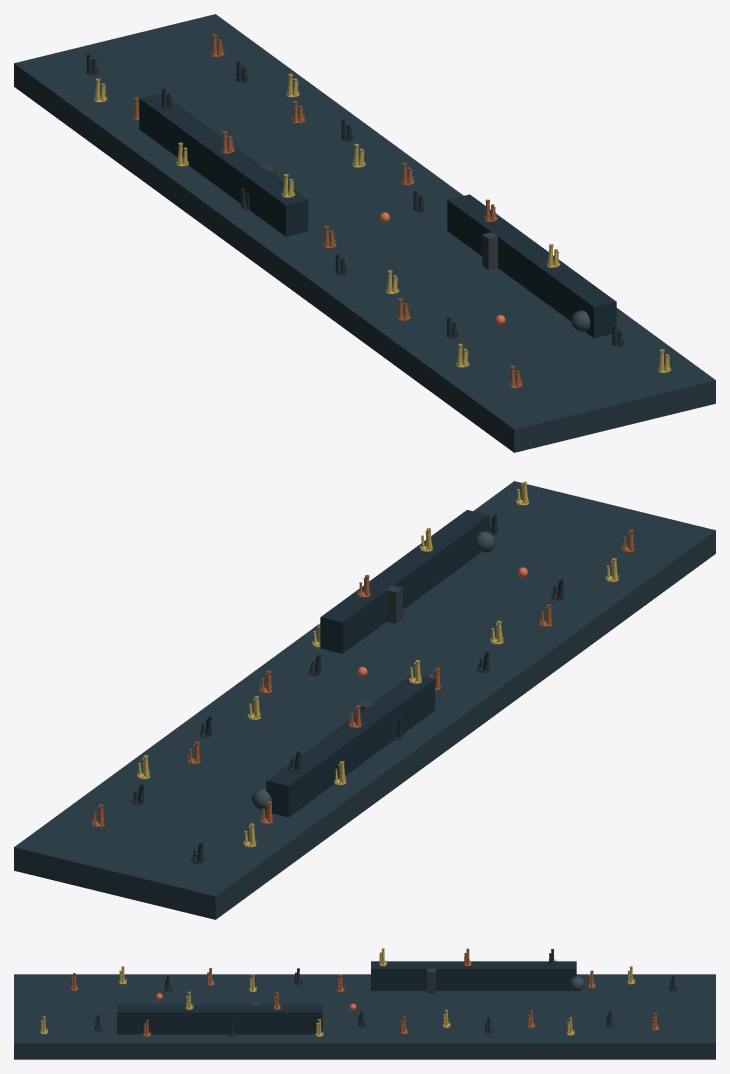
Rendered from blacksmoker-run.visual.glb.
The picture shows the model from 3 angles, top to bottom: view 1: azimuth 30°, elevation 25°; view 2: azimuth 150°, elevation 25°; view 3: azimuth 270°, elevation 25°; orthographic projection. The views are drawn at different scales.
Parts seen in each view (by area): view 1: smoker-seabed, smoker-west-wall, smoker-east-wall; view 2: smoker-seabed, smoker-west-wall, smoker-east-wall; view 3: smoker-seabed, smoker-east-wall, smoker-west-wall, smoker-west-chimney.
Part boxes in pixels (box(x1,y1,x2,y2)): smoker-seabed: box(14, 14, 715, 452); smoker-west-wall: box(139, 92, 308, 236); smoker-east-wall: box(447, 194, 616, 338); smoker-seabed: box(14, 481, 715, 919); smoker-west-wall: box(266, 673, 435, 817); smoker-east-wall: box(320, 510, 489, 653); smoker-seabed: box(14, 974, 715, 1059); smoker-east-wall: box(117, 1004, 322, 1034); smoker-west-wall: box(371, 961, 576, 990); smoker-west-chimney: box(427, 968, 435, 993).
Size of the model in its own units: 54 by 19.65 by 232.
